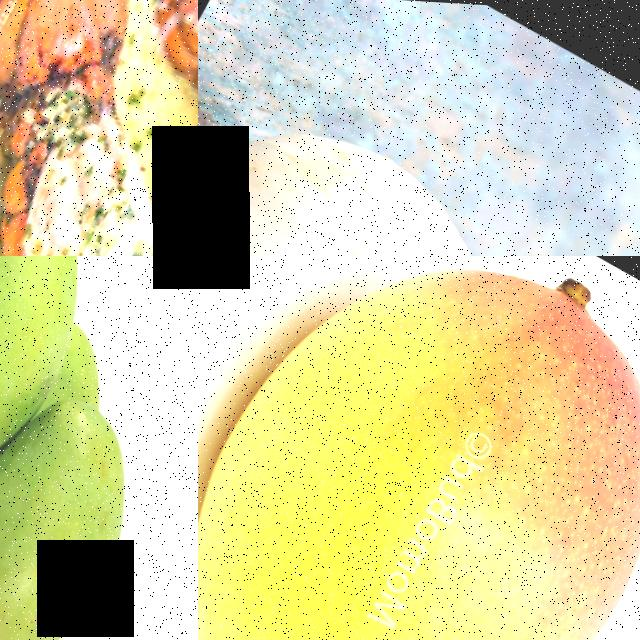lobster tails: (0, 0, 198, 256), (110, 0, 198, 256)
mango: (198, 256, 640, 640), (0, 372, 182, 640), (0, 256, 139, 487)
